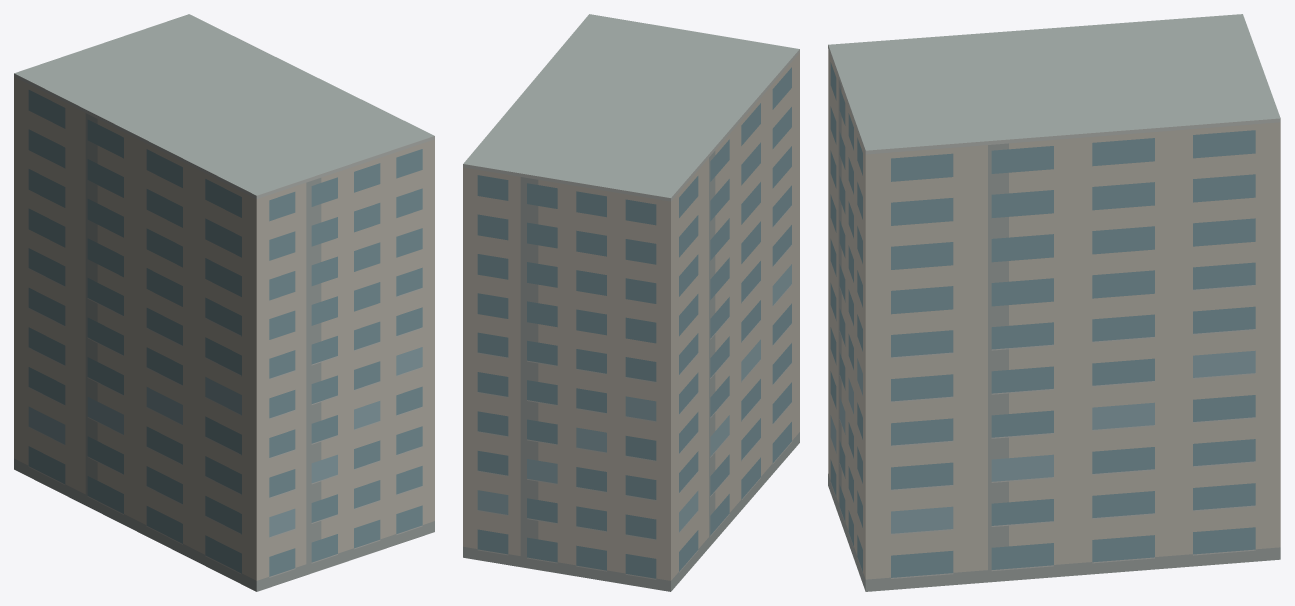
File: survey-upis-32767820.glb
3 renders of one model, left to right at view 1: azimuth 30°, elevation 25°; view 2: azimuth 150°, elevation 25°; view 3: azimuth 270°, elevation 25°, orthographic. The views are drawn at different scales.
Visible parts, largest first — view 1: survey-upis-32767820.tmp; view 2: survey-upis-32767820.tmp; view 3: survey-upis-32767820.tmp.
Boxes of the visible parts, x1,y1,x2,y2 form: survey-upis-32767820.tmp: (14, 14, 434, 591); survey-upis-32767820.tmp: (463, 14, 799, 591); survey-upis-32767820.tmp: (828, 14, 1280, 591).
Bounding box in the file's own units: 18.35 × 27.6 × 25.66.
